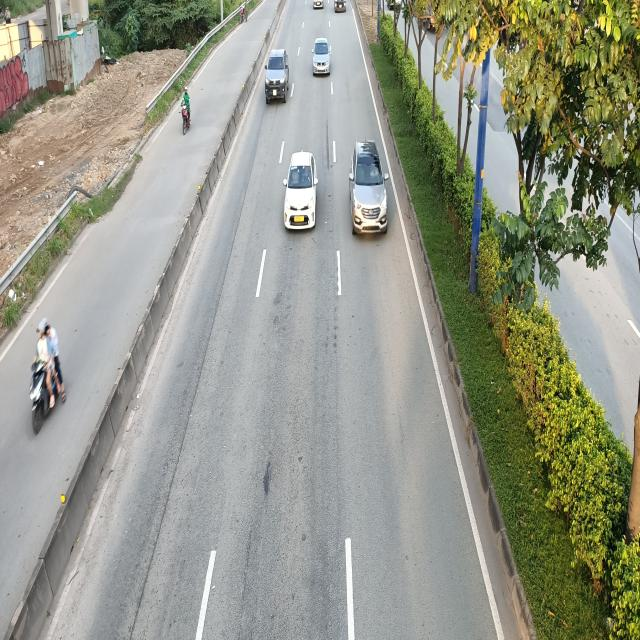car: (348, 144, 388, 240), (282, 154, 318, 233), (264, 48, 290, 104), (312, 38, 331, 77)
